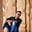face: (13, 12, 21, 20)
